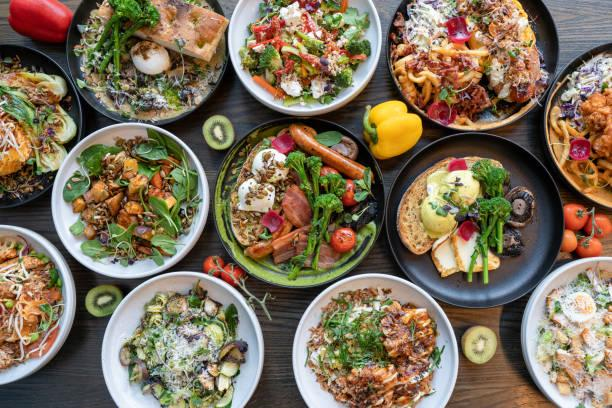Braised Crucian Carp: (385, 132, 562, 308), (212, 116, 377, 288), (51, 123, 205, 277), (385, 1, 558, 132), (101, 271, 263, 405), (293, 273, 456, 405), (66, 1, 224, 126), (227, 0, 378, 116), (519, 257, 611, 406), (1, 40, 83, 205), (0, 224, 76, 387)
